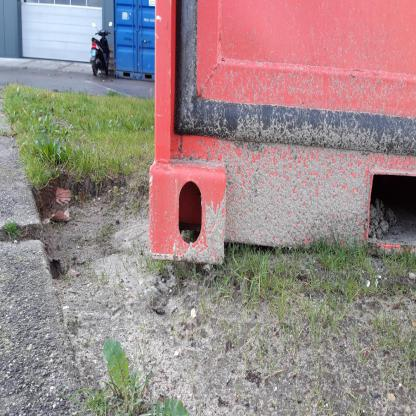CornerCasting: (142, 153, 229, 266)
